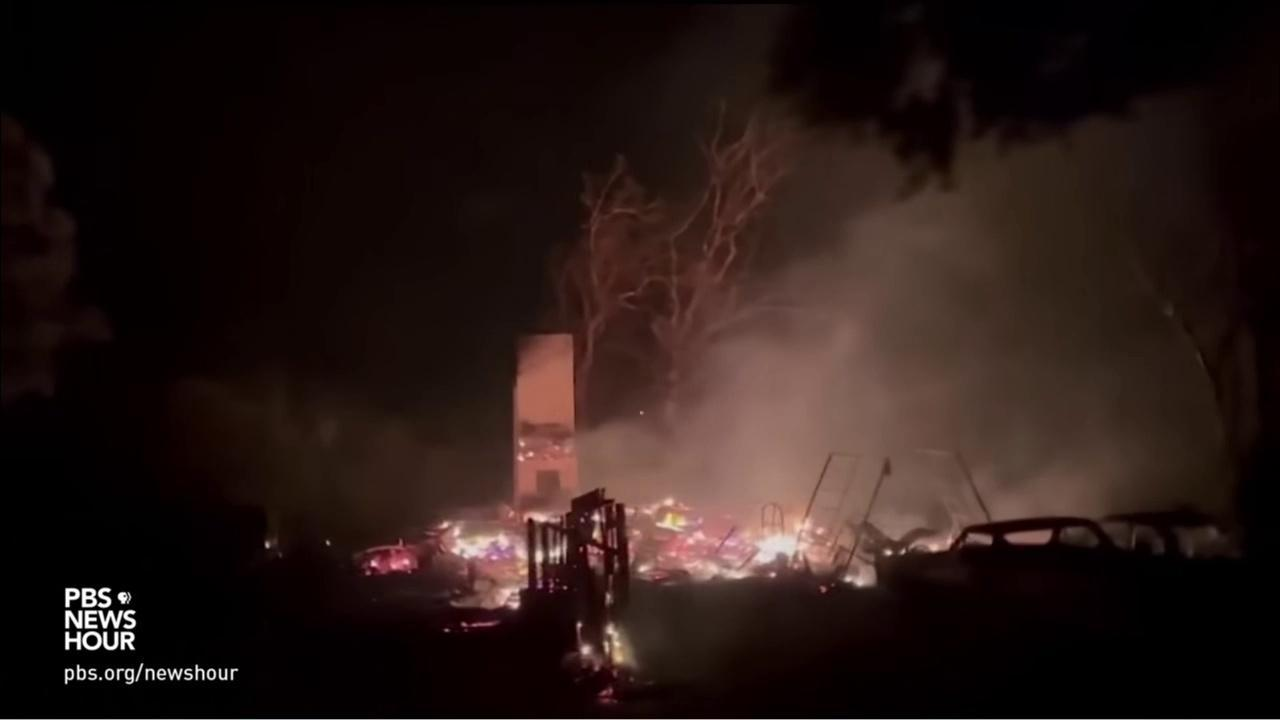fire: (439, 519, 529, 563), (750, 516, 824, 567), (601, 621, 638, 670), (683, 559, 758, 581), (625, 496, 675, 515), (841, 563, 878, 588), (490, 585, 522, 610), (656, 510, 688, 534), (908, 536, 956, 552), (574, 620, 594, 658), (522, 511, 561, 523), (596, 685, 618, 704), (460, 619, 500, 629), (686, 529, 706, 547), (636, 560, 655, 575), (391, 557, 412, 570), (368, 558, 380, 569), (324, 537, 332, 547), (263, 541, 270, 550)
smoke: (556, 55, 1280, 553)
